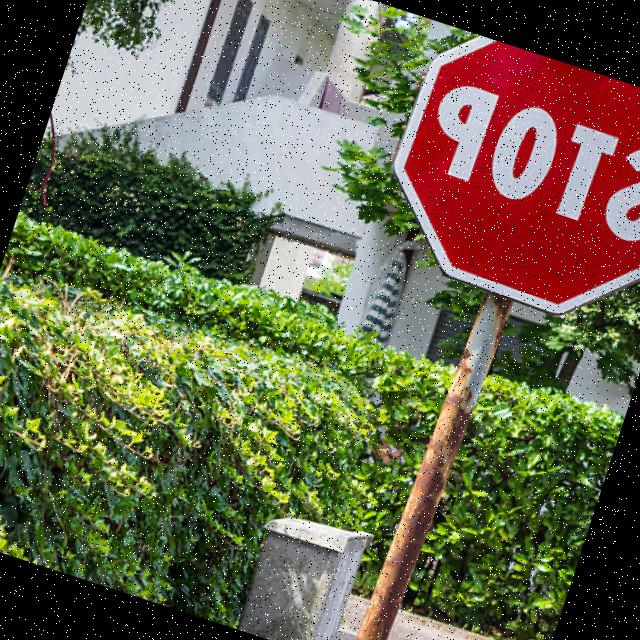stop: (365, 22, 640, 343)
